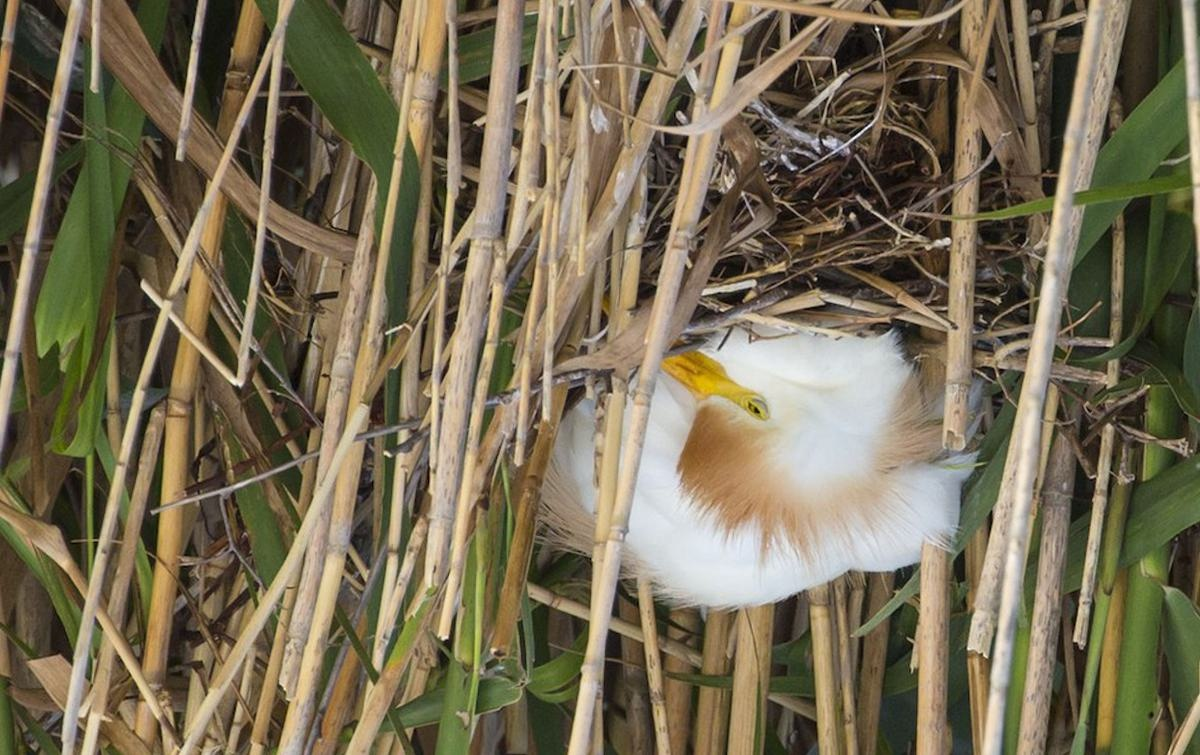egret: (508, 310, 964, 629)
